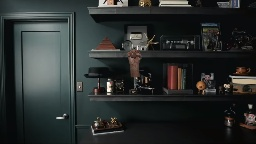Pugno: (125, 48, 143, 65)
